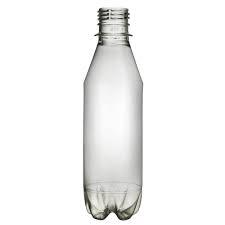Plastic bottle: (78, 5, 156, 222)
